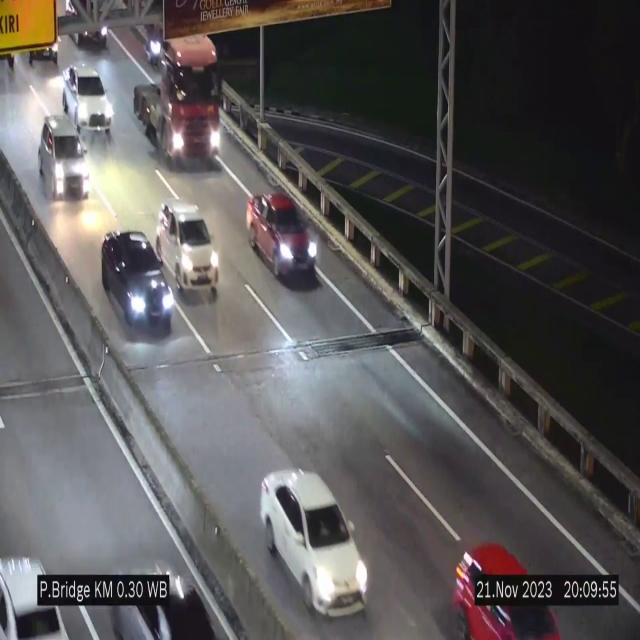Car: (260, 470, 368, 614), (451, 522, 561, 640), (109, 543, 223, 640), (0, 519, 76, 640), (102, 232, 175, 332), (247, 191, 319, 284), (166, 202, 218, 297), (36, 115, 88, 200), (64, 61, 114, 138), (62, 0, 112, 53)
Motorcycle: (143, 10, 161, 71)
Truck: (134, 36, 221, 167)
